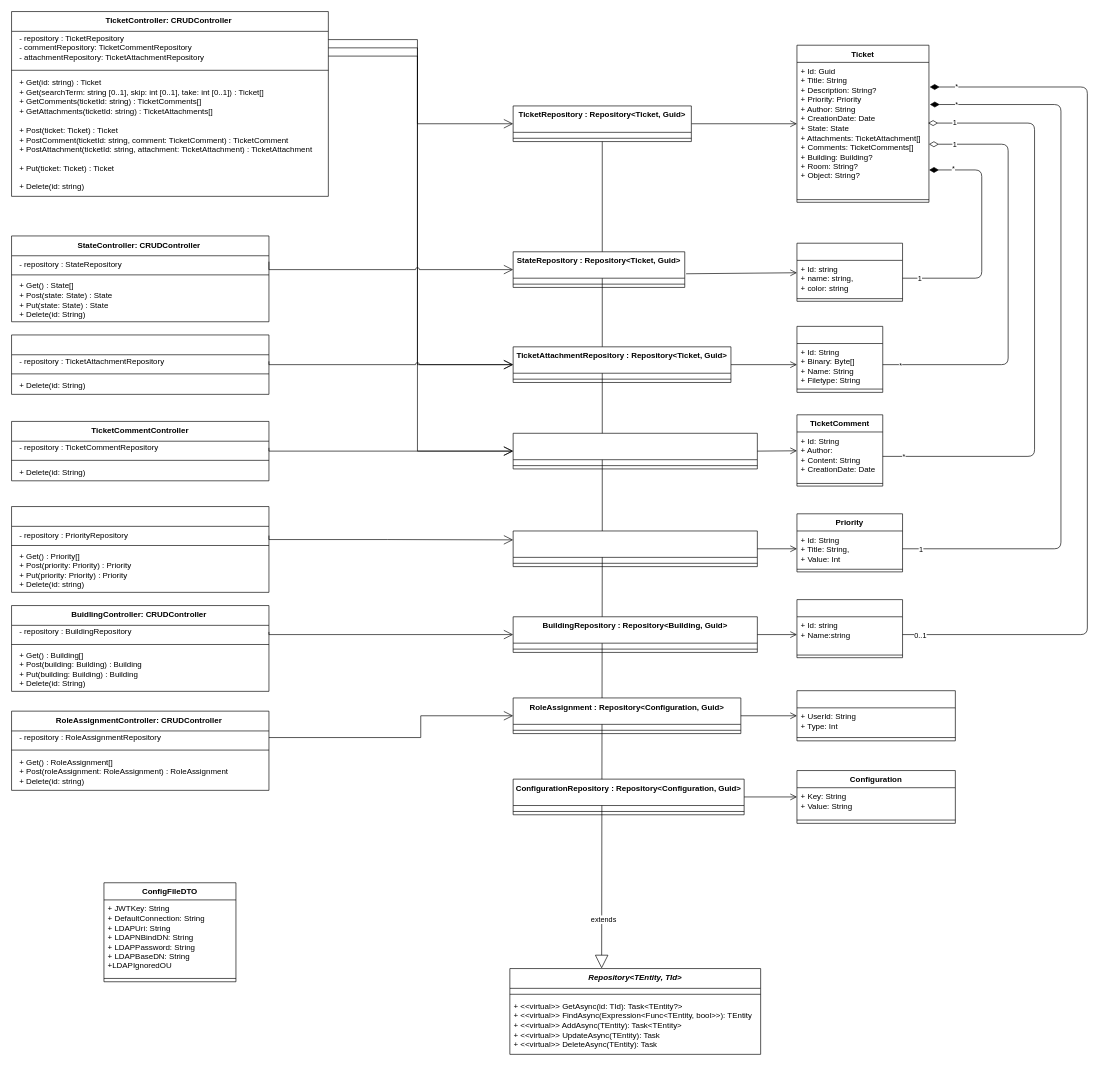
Image size: 1108x1068. Some labels were removed from this diagram. Each missing label, with the box of its shape:
Building: (796, 599, 903, 658)
PriorityController: CRUDController: (11, 506, 269, 592)
PriorityRepository : Repository<Priority, Guid>: (512, 530, 757, 567)
RoleAssignment: (796, 690, 955, 741)
State: (796, 243, 903, 301)
TicketAttachment: (796, 326, 883, 392)
TicketAttachmentController: (11, 334, 269, 394)
TicketCommentRepository : Repository<TicketComment, Guid>: (512, 433, 757, 469)
